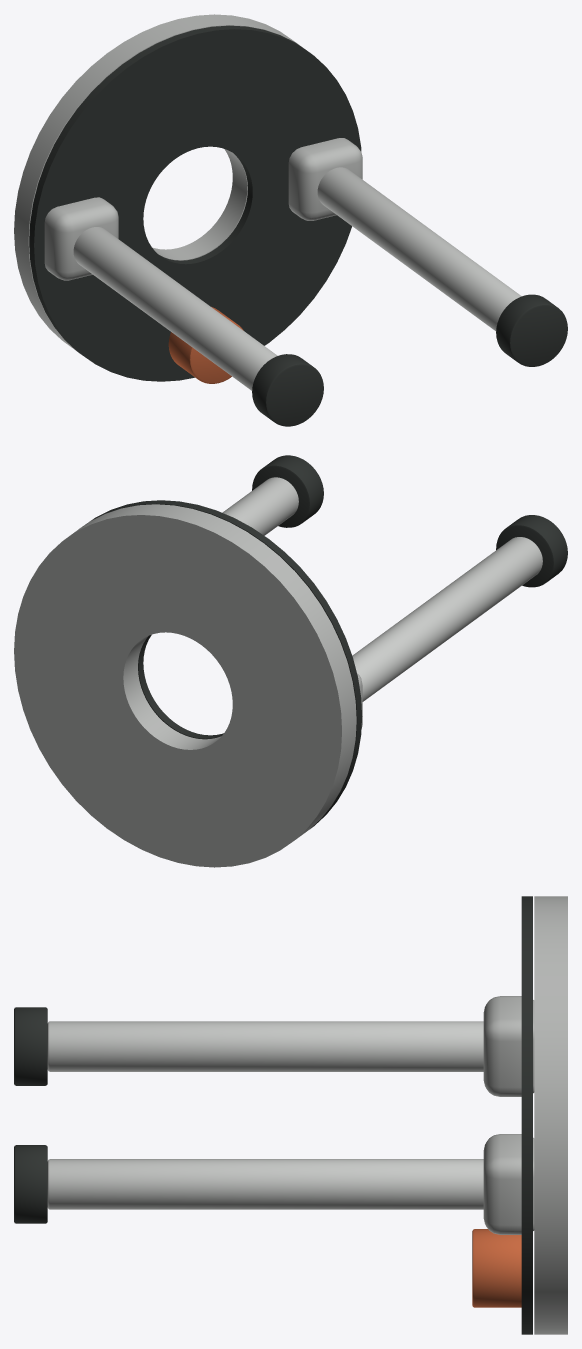
Rendered from plunge_router_body.glb.
3 views of the same model, one above another, from view 1: azimuth 30°, elevation 25°; view 2: azimuth 150°, elevation 25°; view 3: azimuth 270°, elevation 25° (orthographic). The views are drawn at different scales.
Parts seen in each view (by area): view 1: plunge_router_body; view 2: plunge_router_body; view 3: plunge_router_body.
Part boxes in pixels (x1,y1,x2,y2): plunge_router_body: (14,14,567,426); plunge_router_body: (14,455,567,867); plunge_router_body: (14,896,567,1334).
Size of the model in its own units: 0.156 by 0.156 by 0.197.
